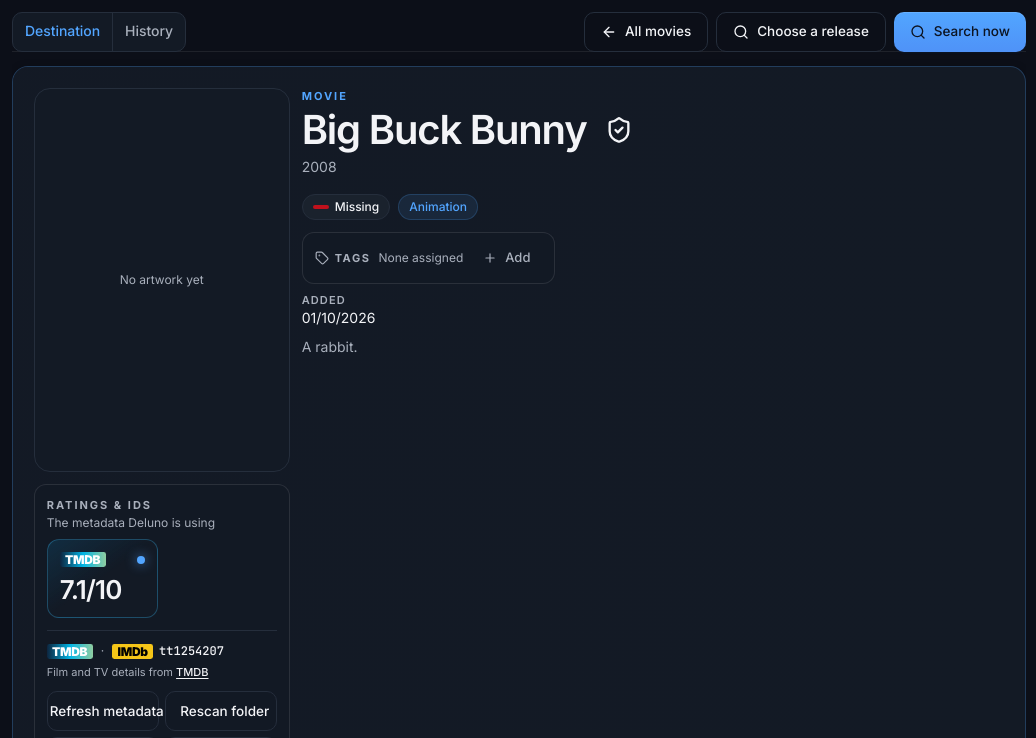
Test: Search now on a film (automatic) › says the release was sent, in the toast and in the note that stays on the page
Check: the heading "Big Buck Bunny" is shown, box [302,108,586,151]
Click the button "Search now". click: (960, 32)
box: [894,12,1026,52]
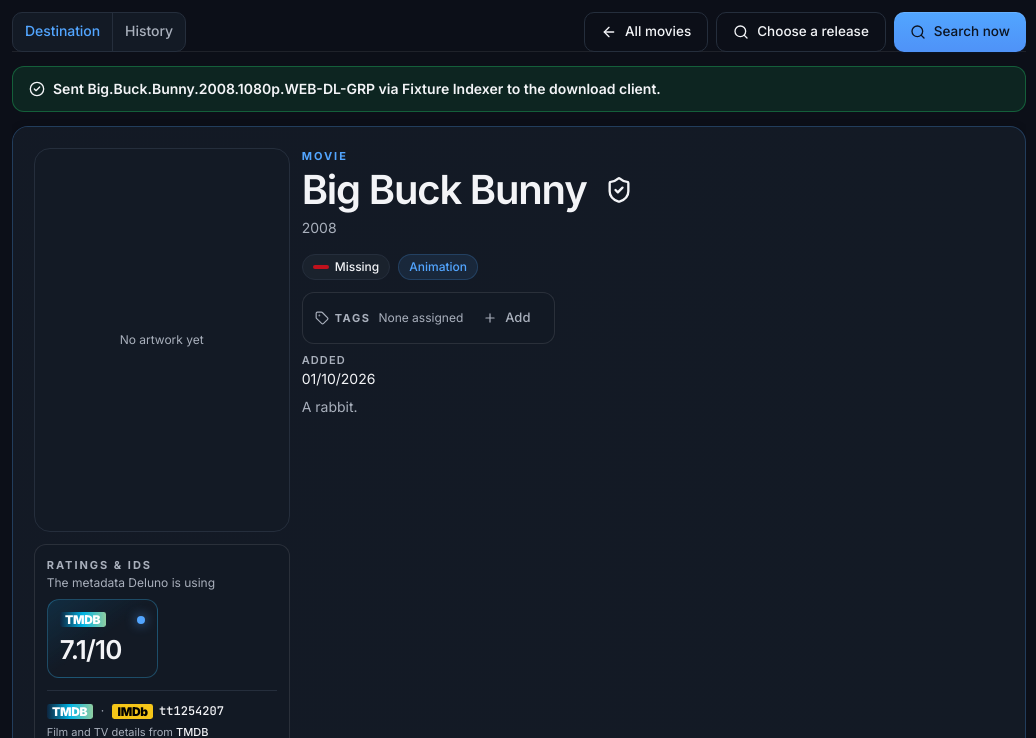
Check: the message named "Result of the last search" is shown, box [12,66,1026,112]
Check: the message named "Result of the last search" shows "Big.Buck.Bunny.2008.1080p.WEB-DL-GRP", box [53,80,661,97]
